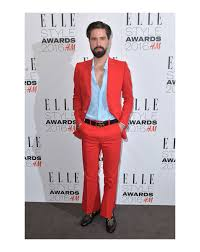F_belt: (80, 115, 124, 130)
